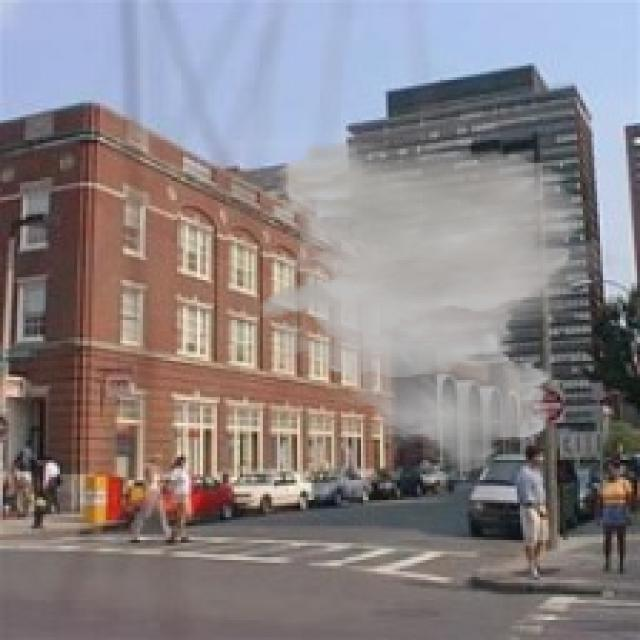smoke: (257, 140, 632, 483)
